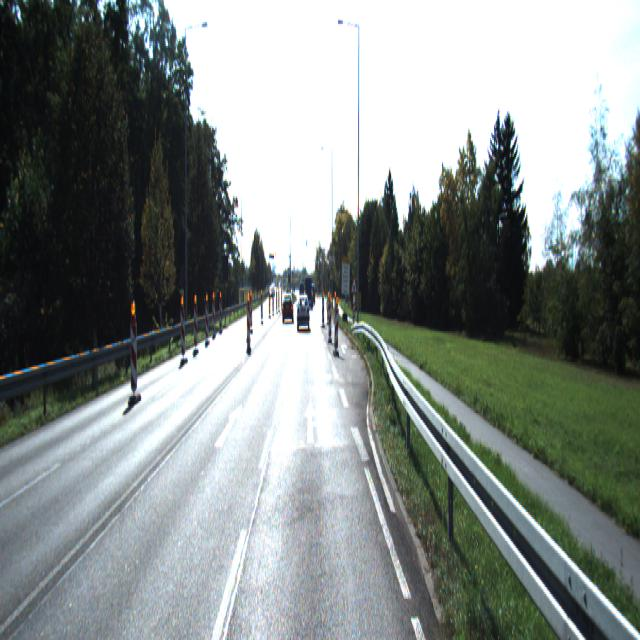Car: (297, 297, 310, 331), (283, 293, 294, 323)
